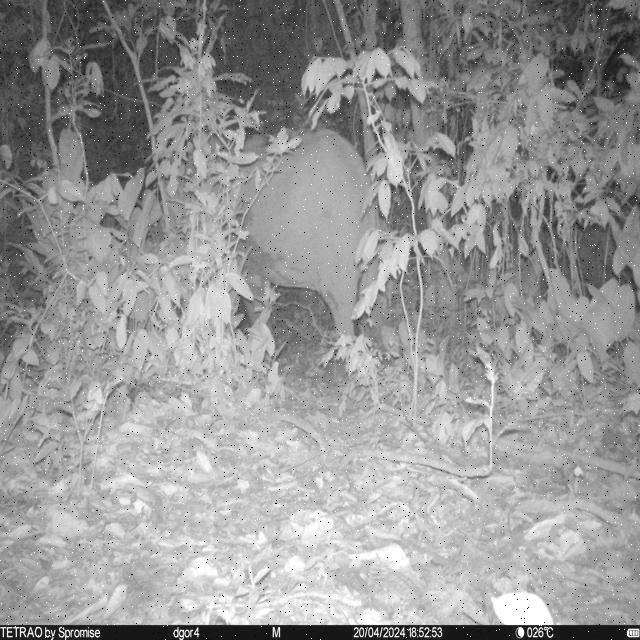elephant: (228, 125, 378, 366)
